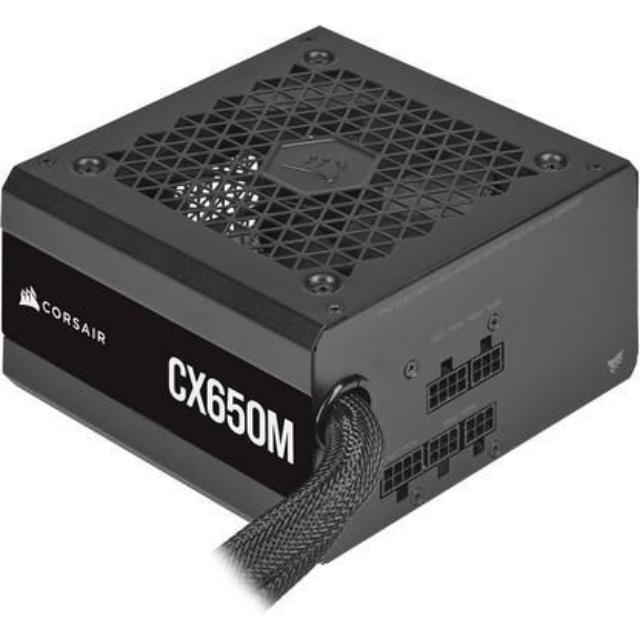PSU: (0, 14, 640, 582)
